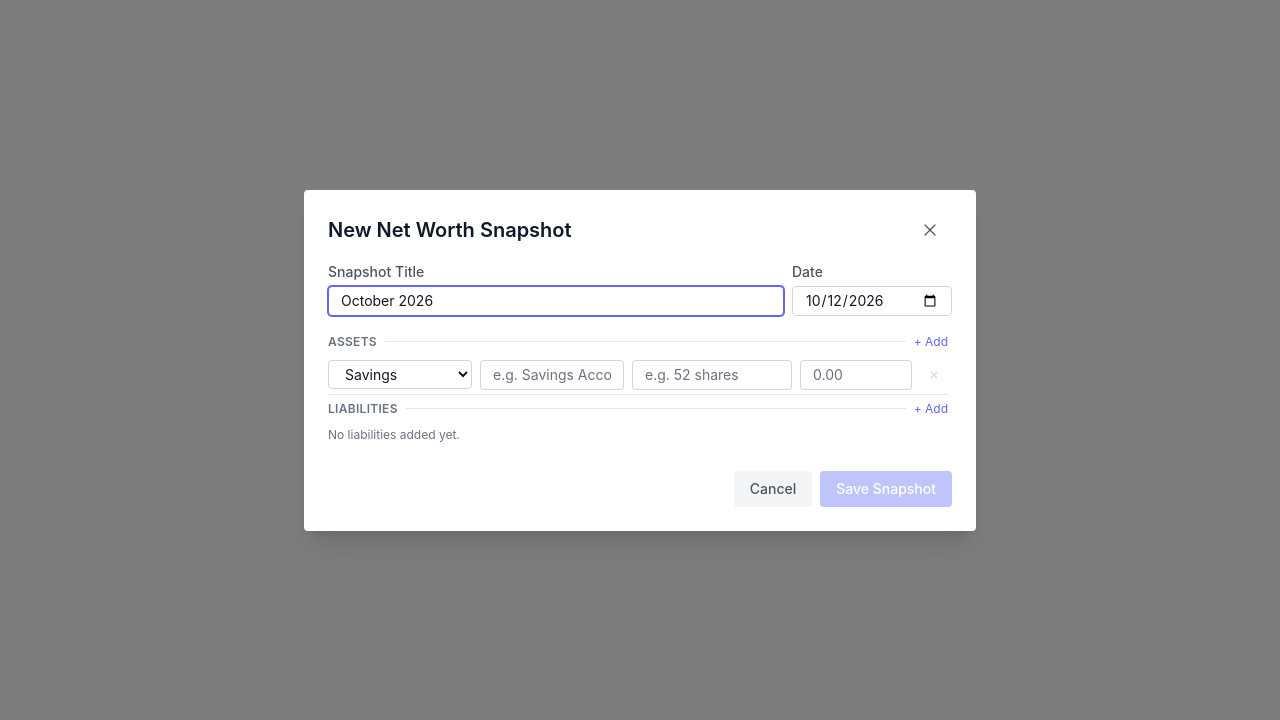
it: NetWorthSnapshotModal › removes an entry when the remove button is clicked
Click the button "+ Add" in the row of "Assets": click(931, 342) x1=914 y1=334 x2=948 y2=350
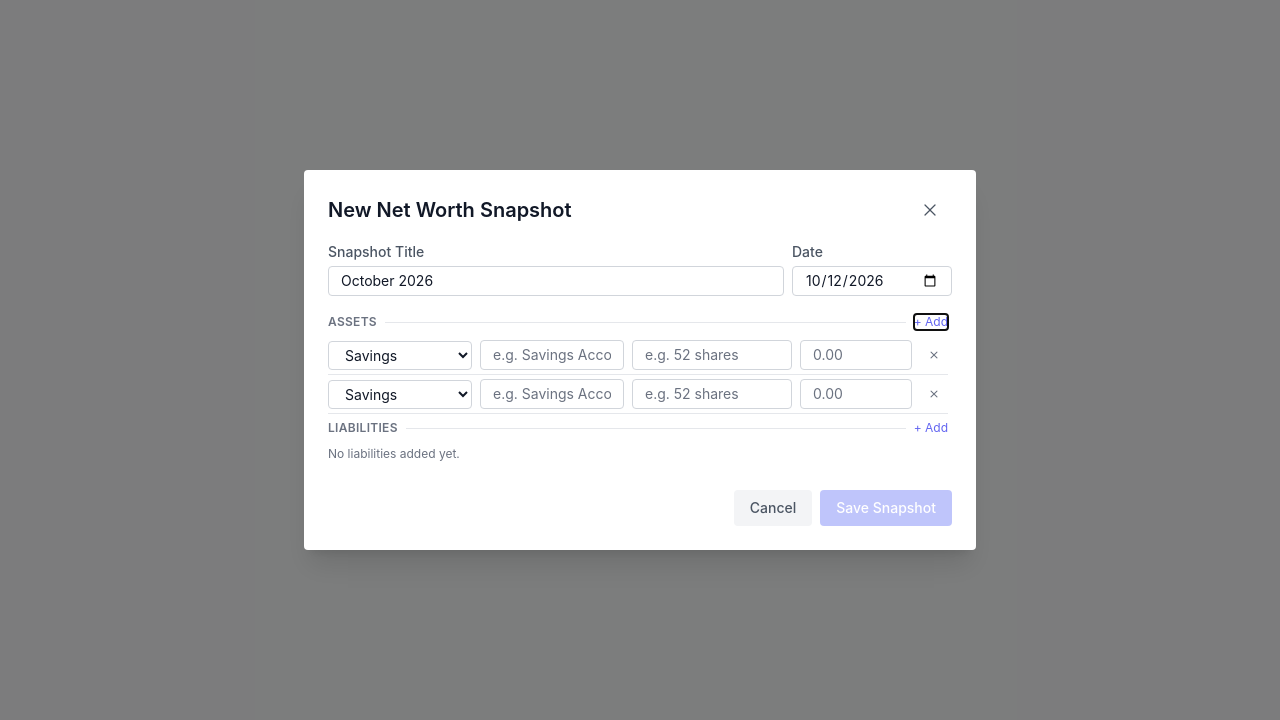
Click the 1st button named "Remove entry": click(934, 355) x1=920 y1=341 x2=948 y2=369
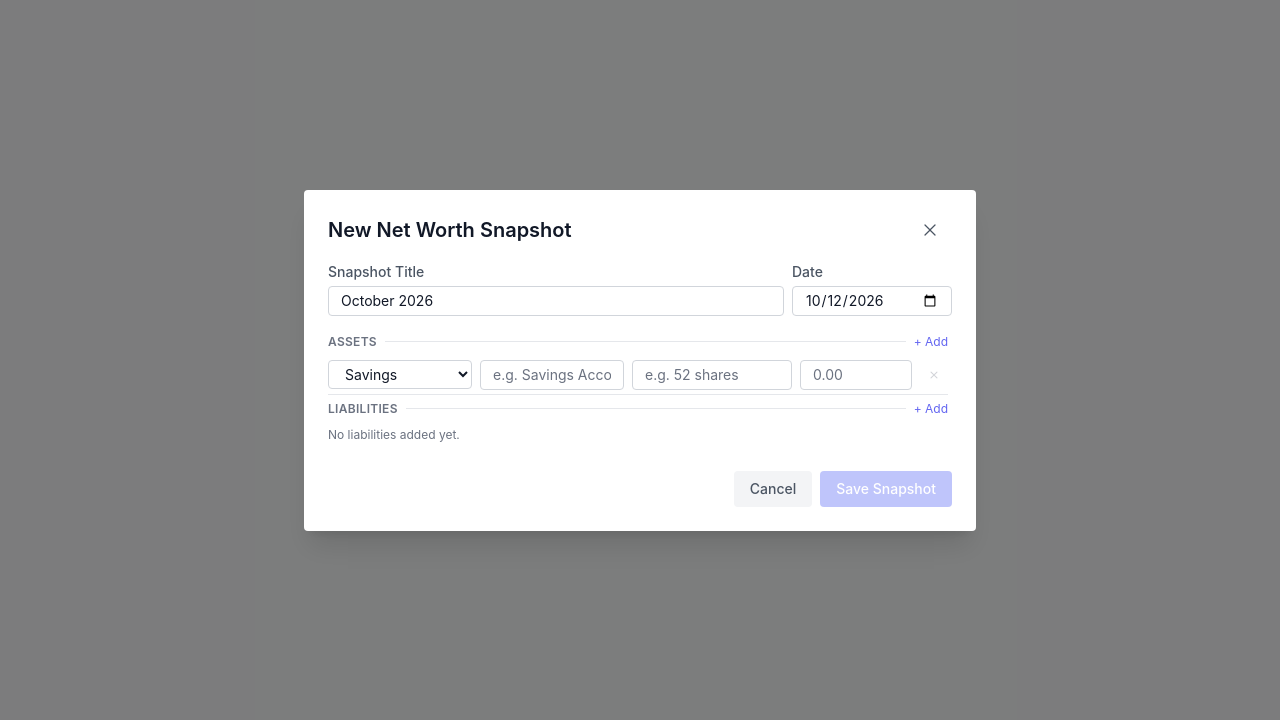
Expected: the number of fields with placeholder "e.g. Savings Account" is 1, x1=480 y1=360 x2=624 y2=390
